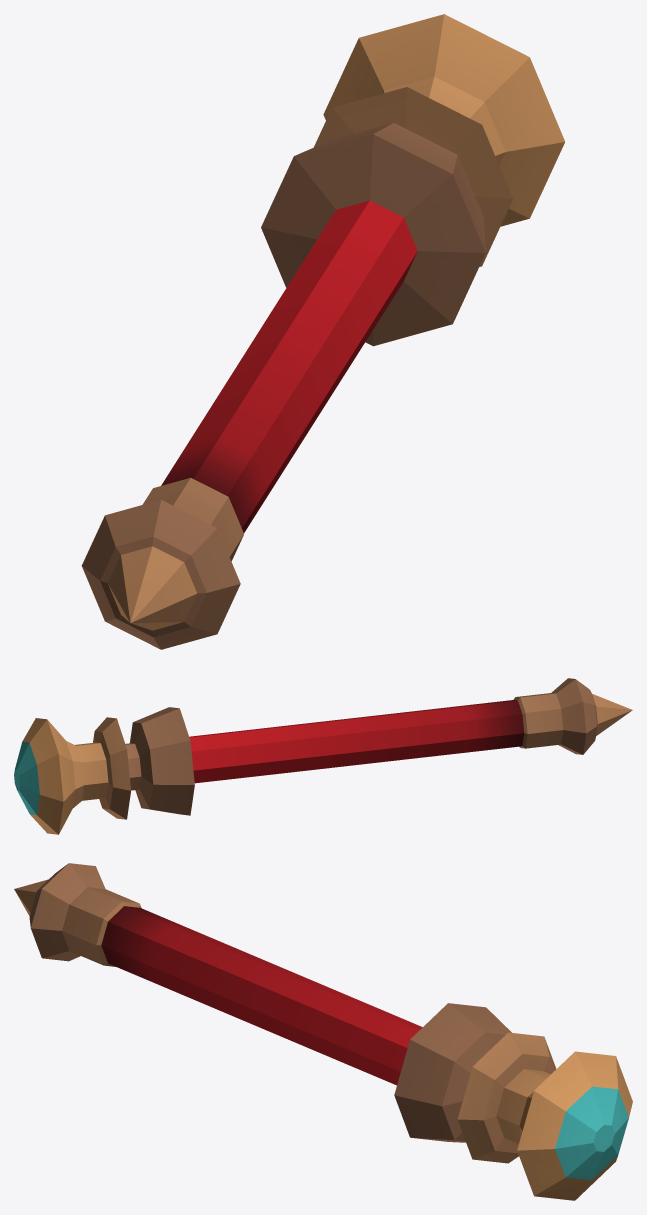
Rendered from Mace_1.fbx.
The picture shows the model from 3 angles, top to bottom: view 1: azimuth 30°, elevation 25°; view 2: azimuth 150°, elevation 25°; view 3: azimuth 270°, elevation 25°; orthographic projection. The views are drawn at different scales.
Visible parts, largest first — view 1: Mace_1; view 2: Mace_1; view 3: Mace_1.
Boxes of the visible parts, x1,y1,x2,y2 form: Mace_1: (81, 14, 564, 649); Mace_1: (14, 678, 632, 834); Mace_1: (14, 863, 632, 1200).
Bounding box in the file's own units: 1.78 × 0.4749 × 1.78.
Materials: 1 (1 with a texture image).
